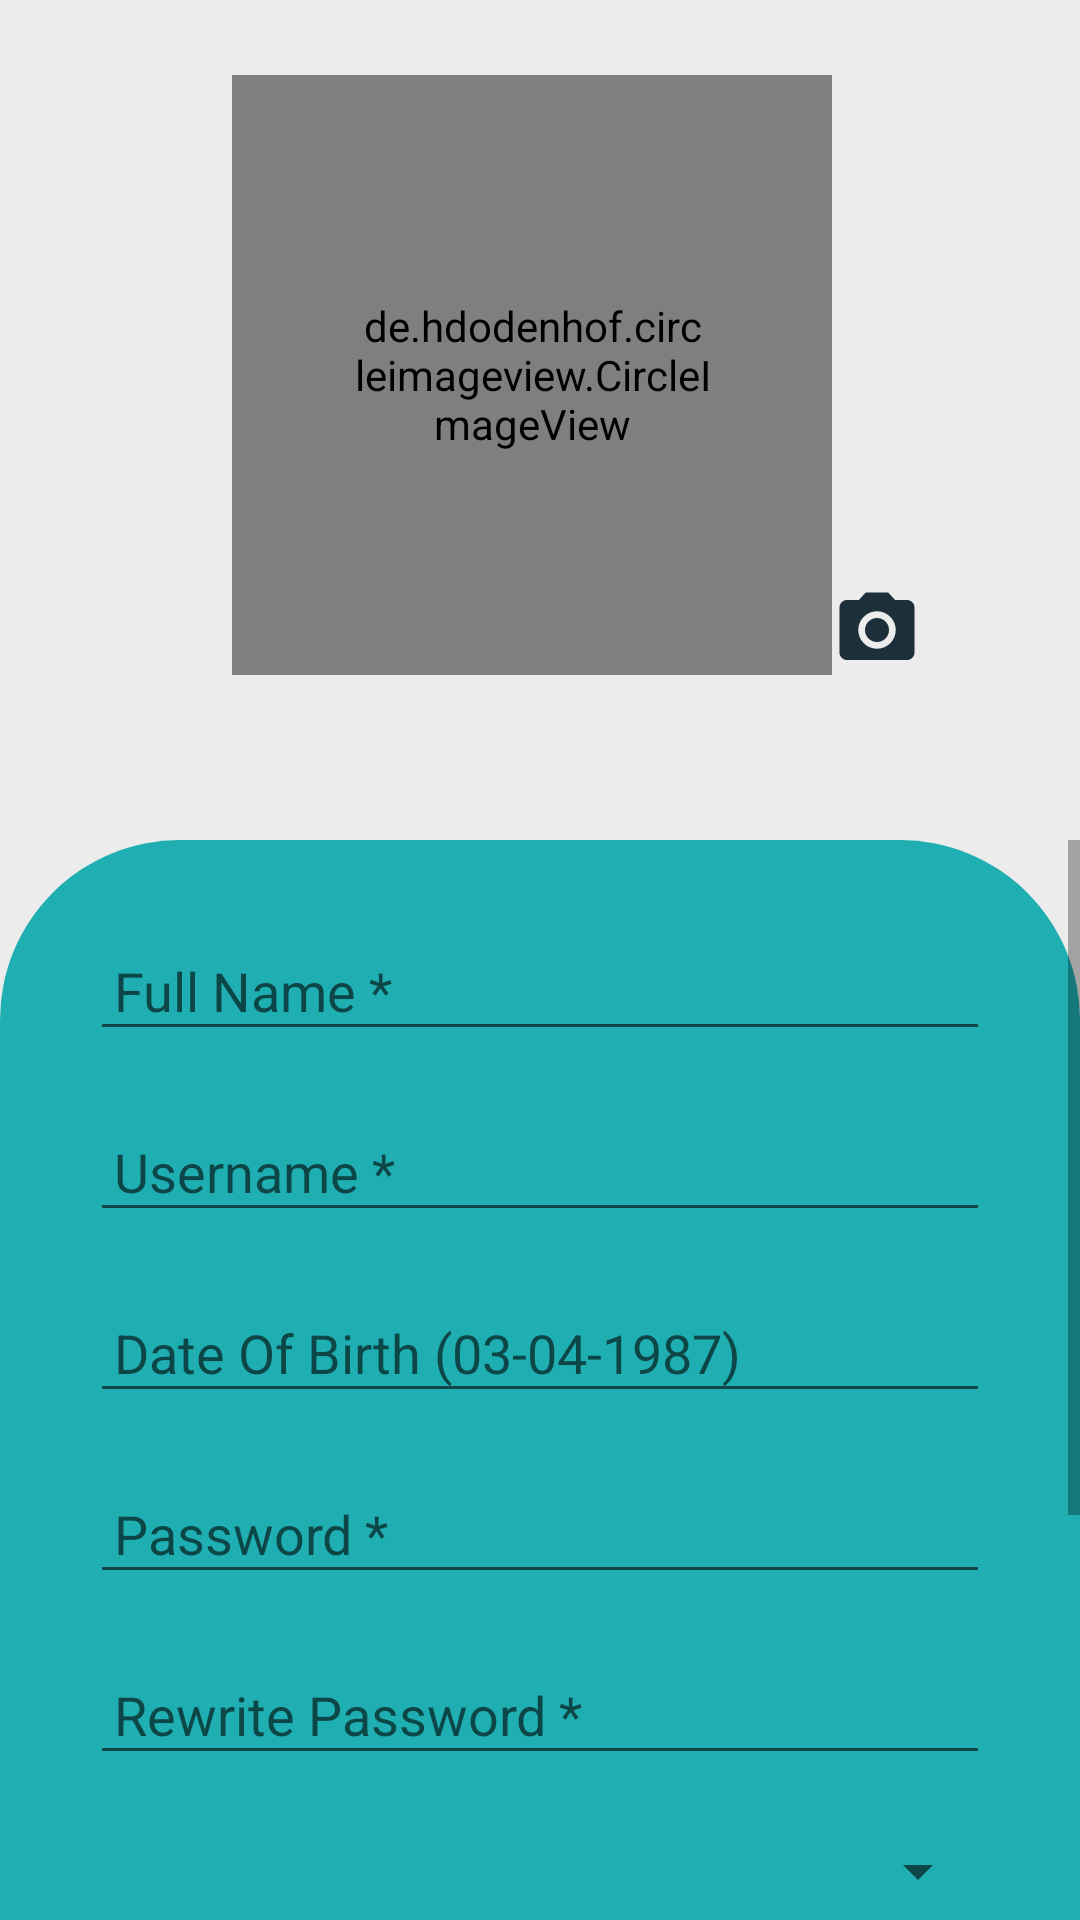

Screen size 1080x1920. Icon name, then its center in pixels as (x=x, y=y):
camera: (x=877, y=626)
